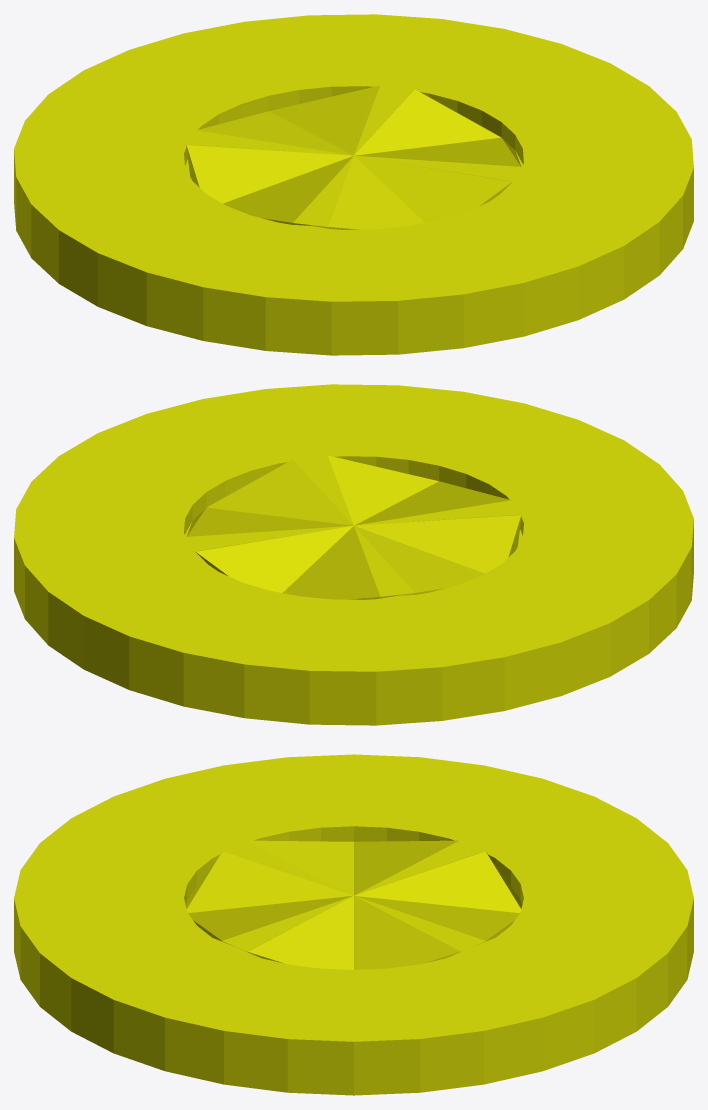
File: Coin.fbx
3 renders of one model, top to bottom at view 1: azimuth 30°, elevation 25°; view 2: azimuth 150°, elevation 25°; view 3: azimuth 270°, elevation 25°, orthographic.
Visible parts, largest first — view 1: Circle; view 2: Circle; view 3: Circle.
Boxes of the visible parts, x1,y1,x2,y2 form: Circle: [14, 14, 693, 355]; Circle: [14, 384, 693, 725]; Circle: [14, 754, 693, 1095].
Size of the model in its own units: 200 by 18.95 by 200.
